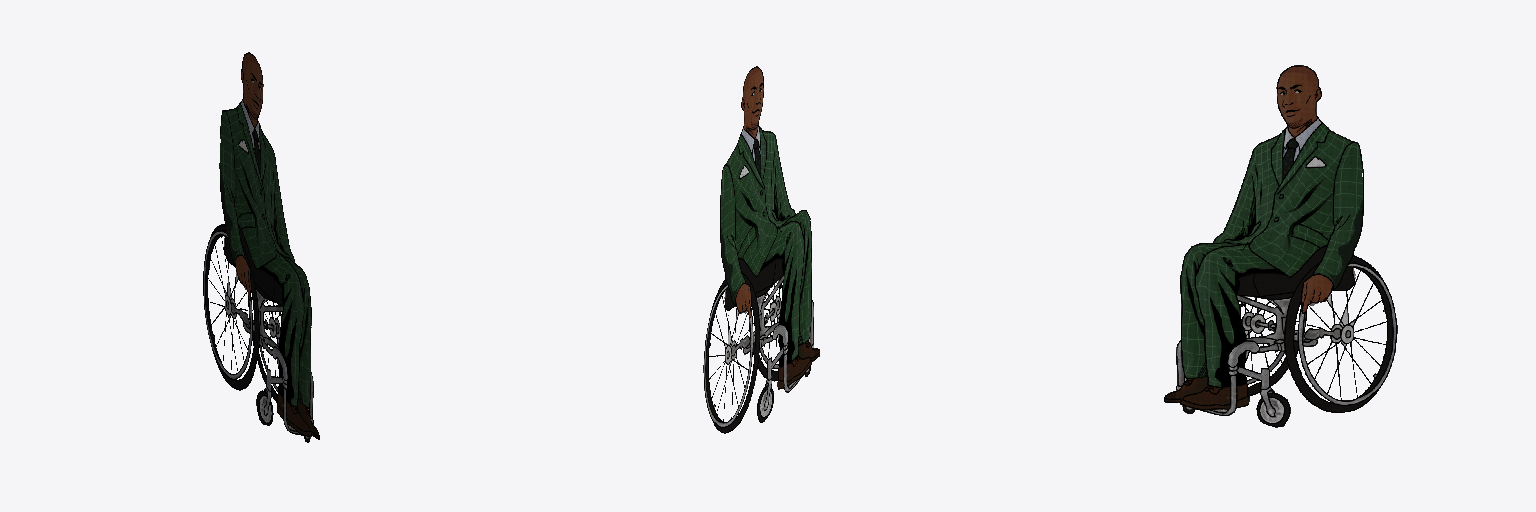
3 views of the same model, side by side, from view 1: azimuth 30°, elevation 25°; view 2: azimuth 150°, elevation 25°; view 3: azimuth 270°, elevation 25° (orthographic).
Visible parts, largest first — view 1: pCube1; view 2: pCube1; view 3: pCube1.
Part boxes in pixels (x1,y1,x2,y2): pCube1: (203, 52, 319, 442); pCube1: (703, 66, 819, 433); pCube1: (1164, 65, 1397, 427).
Bounding box in the file's own units: 0.0486 × 1.58 × 0.9758.
Materials: 1 (1 with a texture image).